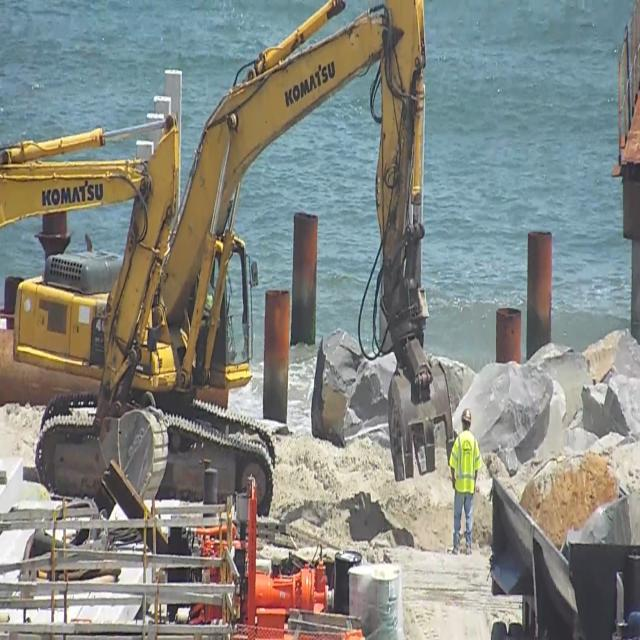machinery: (12, 0, 456, 515)
worker: (454, 406, 477, 556)
